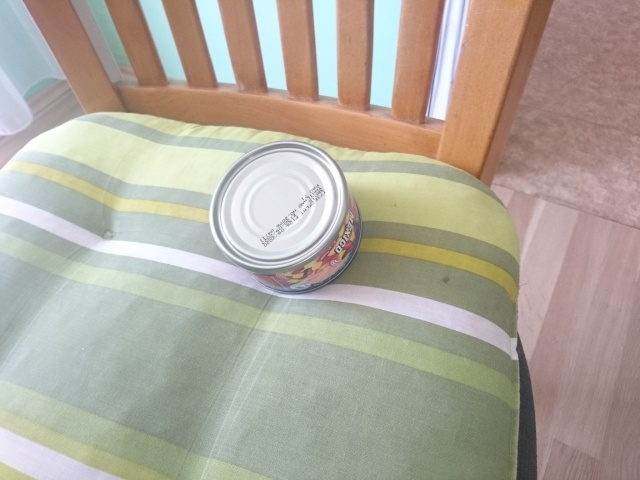Giana Tuna Salad Mexico 185g: (206, 138, 364, 297)
